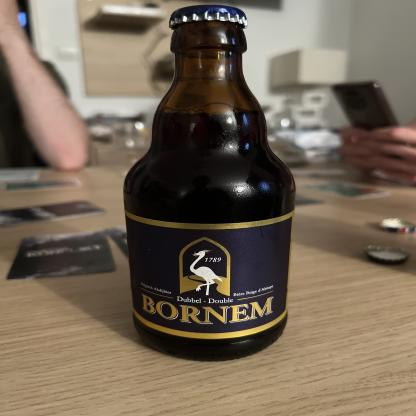Can: (124, 4, 297, 363)
